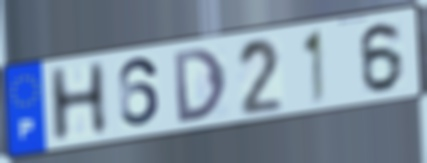1: (300, 24, 329, 108)
2: (235, 35, 288, 117)
6: (357, 20, 407, 95), (116, 55, 163, 132)
D: (170, 45, 230, 127)
H: (45, 59, 112, 147)
